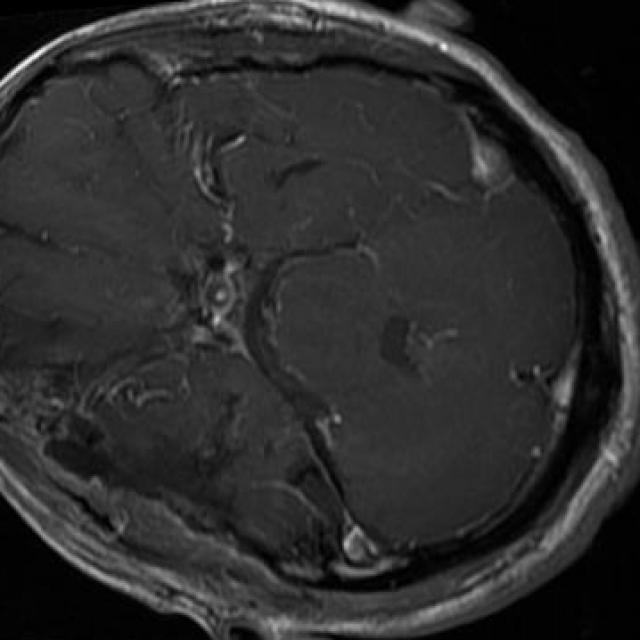glioma: (43, 355, 341, 579)
